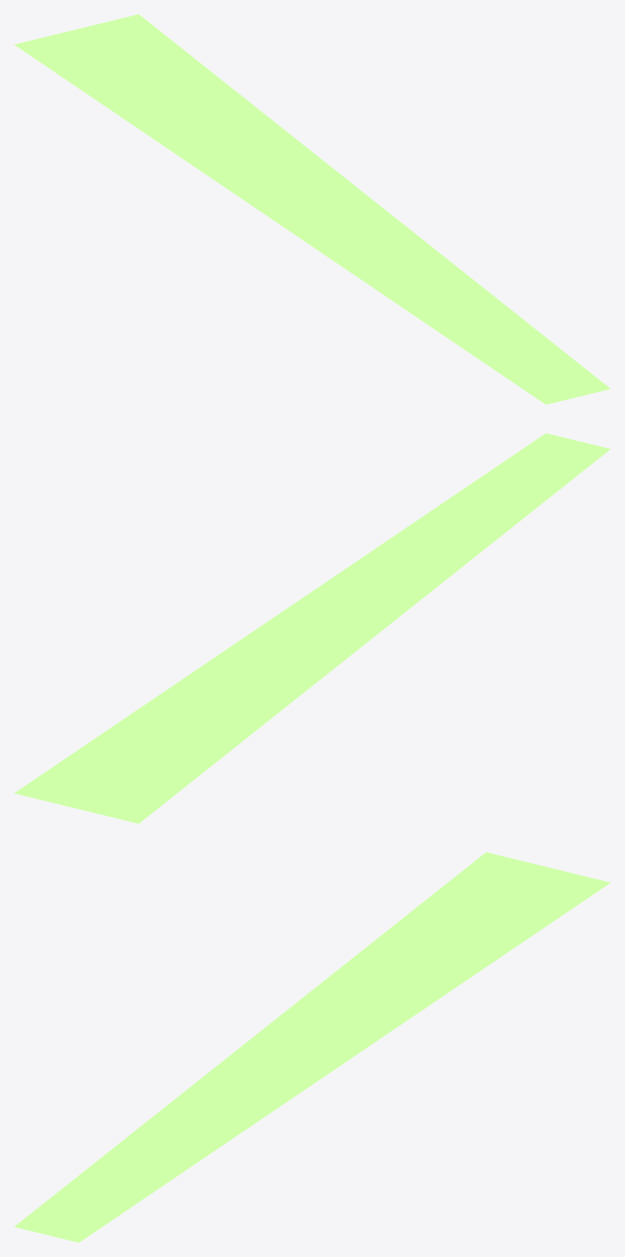
File: lighthouse.glb
The picture shows the model from 3 angles, top to bottom: view 1: azimuth 30°, elevation 25°; view 2: azimuth 150°, elevation 25°; view 3: azimuth 330°, elevation 25°; orthographic projection.
Visible parts, largest first — view 1: Plane; view 2: Plane; view 3: Plane.
Boxes of the visible parts, x1,y1,x2,y2 form: Plane: (14, 14, 610, 404); Plane: (14, 433, 610, 823); Plane: (14, 852, 610, 1242).
Bounding box in the file's own units: 2 × 0 × 13.93.
